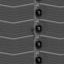dust: (30, 27, 34, 32)
